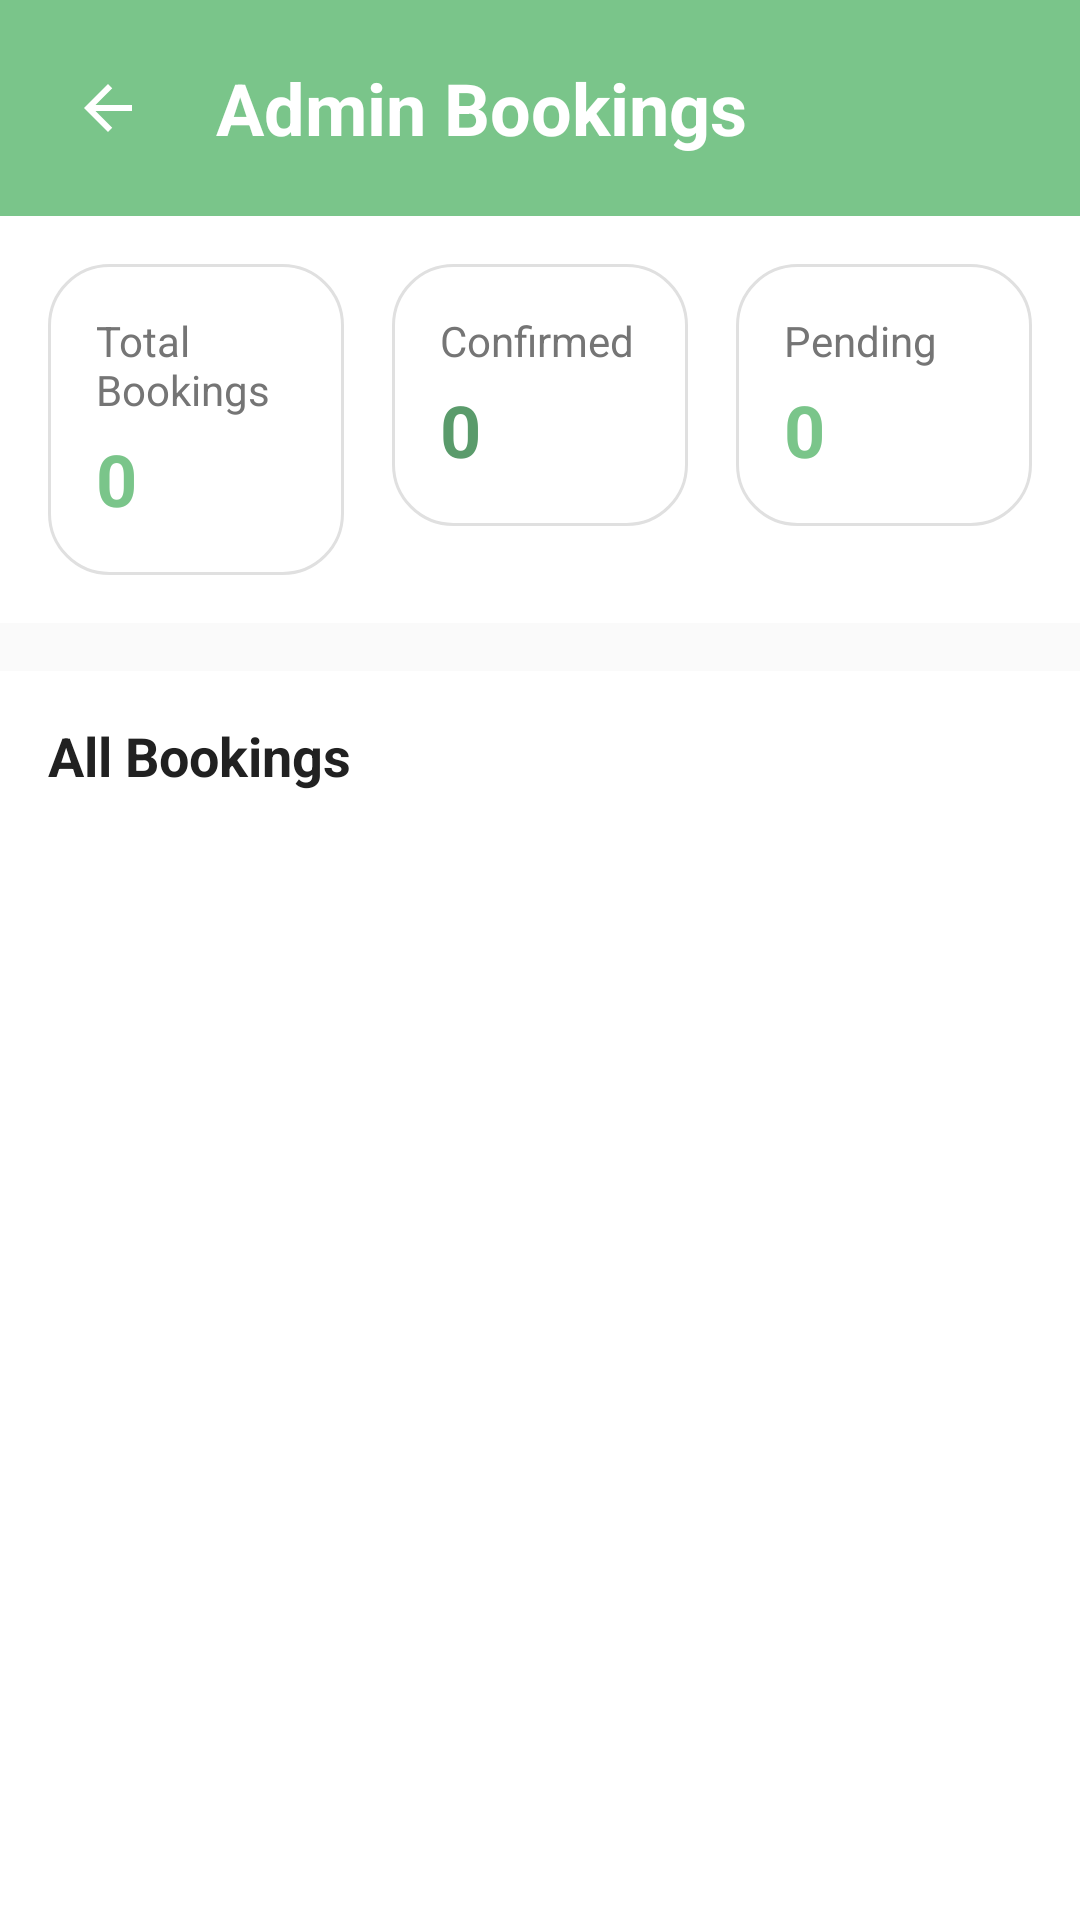

Where icons sit on this 1080 × 1920 app screen, as (x1, y1, x2, y2):
Back: (84, 84, 132, 132)
